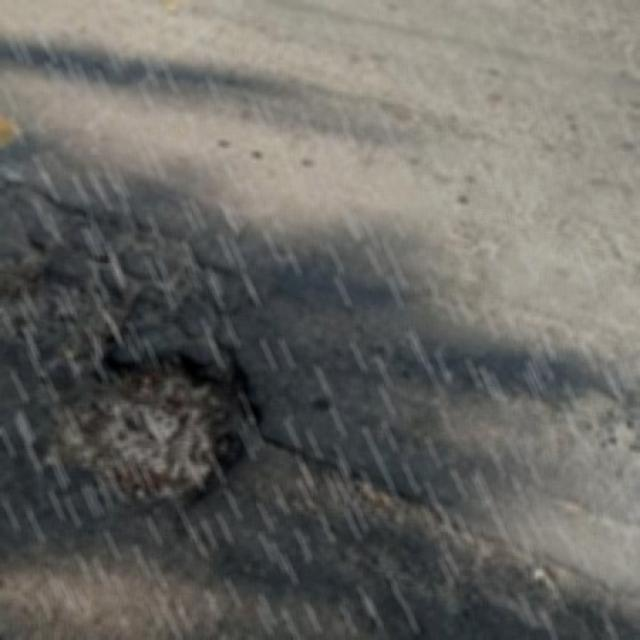road-pothole: (0, 152, 306, 569)
